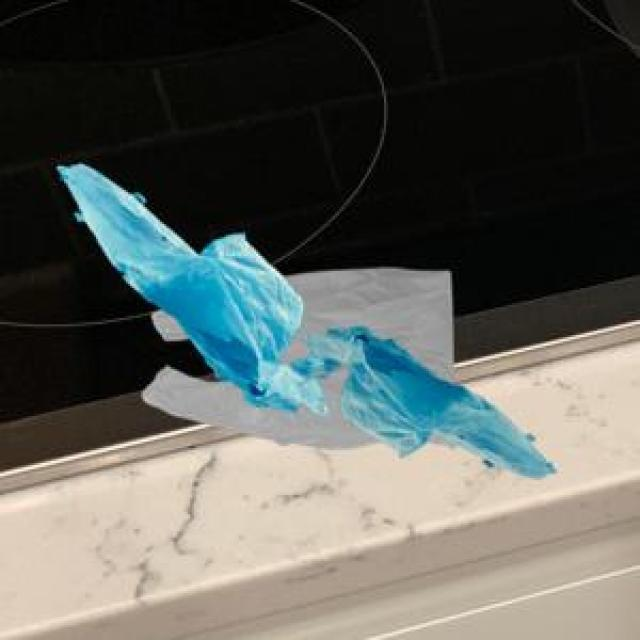waste: (56, 164, 555, 478)
